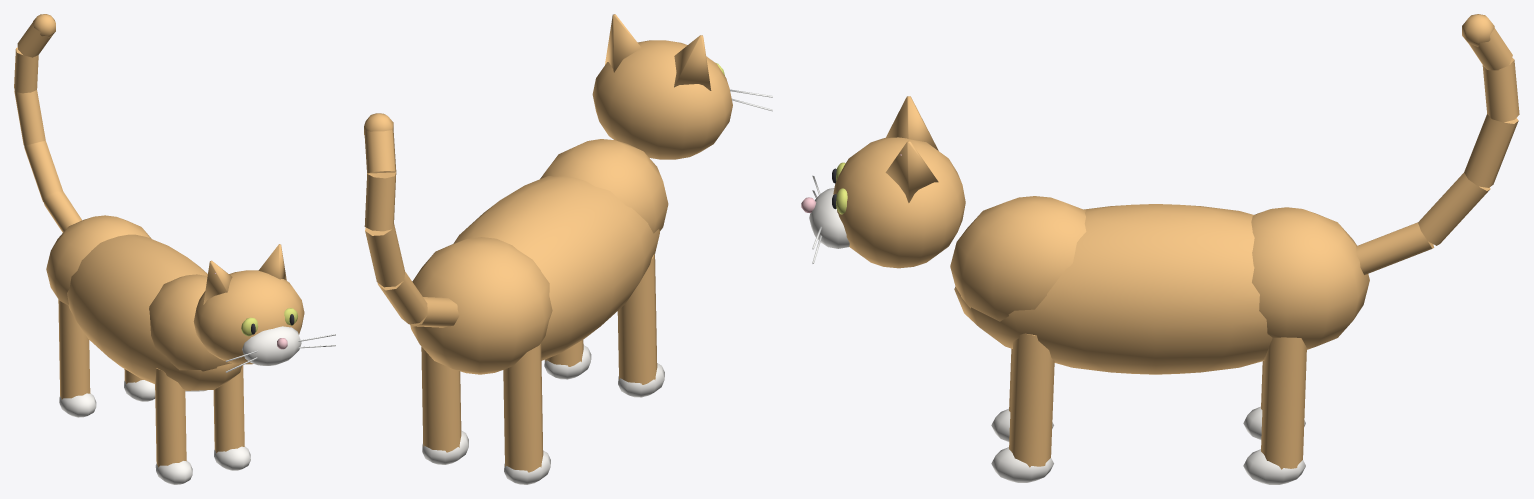
Rendered from SM_Cat.fbx.
3 renders of one model, left to right at view 1: azimuth 30°, elevation 25°; view 2: azimuth 150°, elevation 25°; view 3: azimuth 270°, elevation 25°, orthographic. The views are drawn at different scales.
Visible parts, largest first — view 1: Cat_Body, Cat_Head, Cat_Tail, Cat_Leg_FR, Cat_Leg_BR, Cat_Leg_FL, Cat_Leg_BL; view 2: Cat_Body, Cat_Head, Cat_Tail, Cat_Leg_BR, Cat_Leg_FR, Cat_Leg_BL, Cat_Leg_FL; view 3: Cat_Body, Cat_Head, Cat_Tail, Cat_Leg_BL, Cat_Leg_FL.
Boxes of the visible parts, x1,y1,x2,y2 form: Cat_Body: (46,215,241,391); Cat_Head: (193,244,335,372); Cat_Tail: (14,14,82,232); Cat_Leg_FR: (155,368,192,484); Cat_Leg_BR: (58,299,96,417); Cat_Leg_FL: (213,365,250,470); Cat_Leg_BL: (124,369,155,401); Cat_Body: (410,139,668,374); Cat_Head: (592,14,772,159); Cat_Tail: (364,113,459,327); Cat_Leg_BR: (503,343,550,484); Cat_Leg_FR: (617,253,664,397); Cat_Leg_BL: (421,347,468,464); Cat_Leg_FL: (544,340,591,379); Cat_Body: (950,196,1369,374); Cat_Head: (801,96,965,268); Cat_Tail: (1356,14,1519,274); Cat_Leg_BL: (1243,337,1306,484); Cat_Leg_FL: (991,333,1054,482).
Size of the model in its own units: 0.176 by 0.495 by 0.7126.
